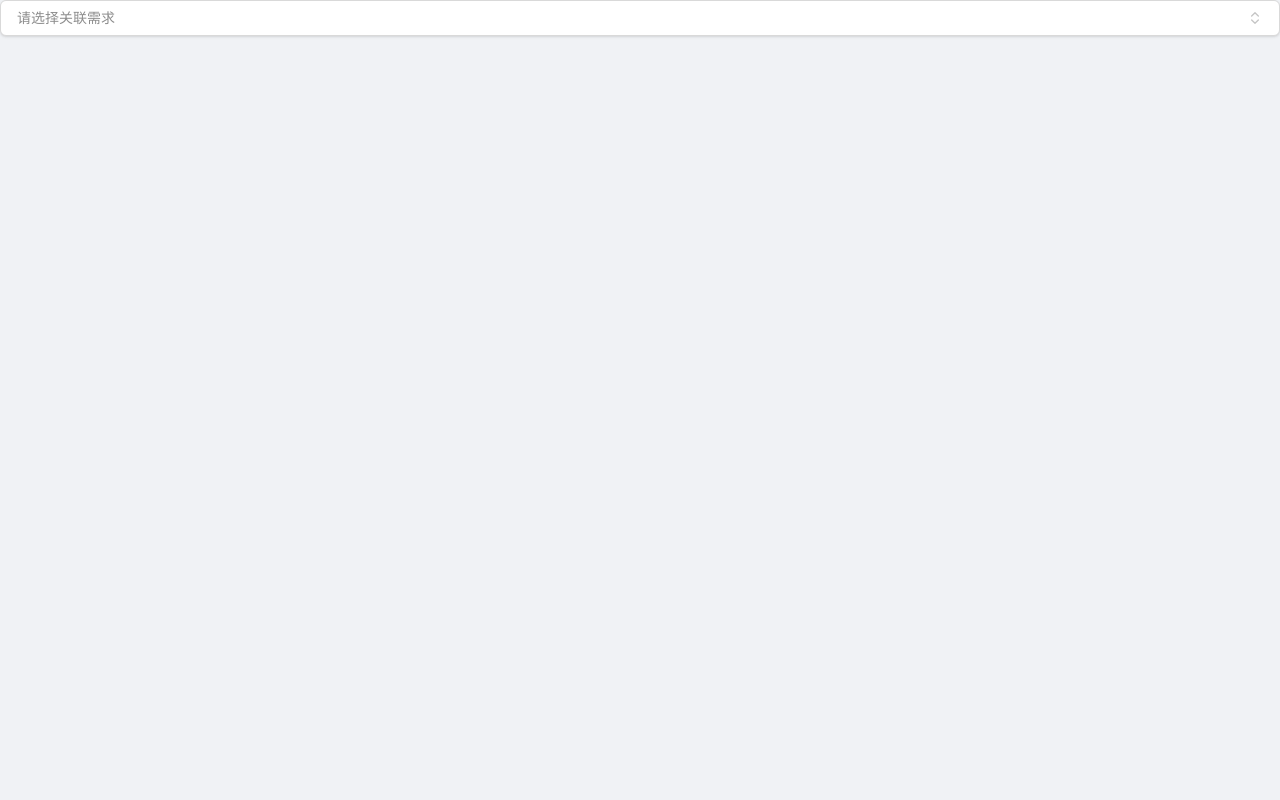
RequirementSelect › 回车搜索写入历史并展示
Click the dropdown at (66, 18), box [0,0,1279,36]
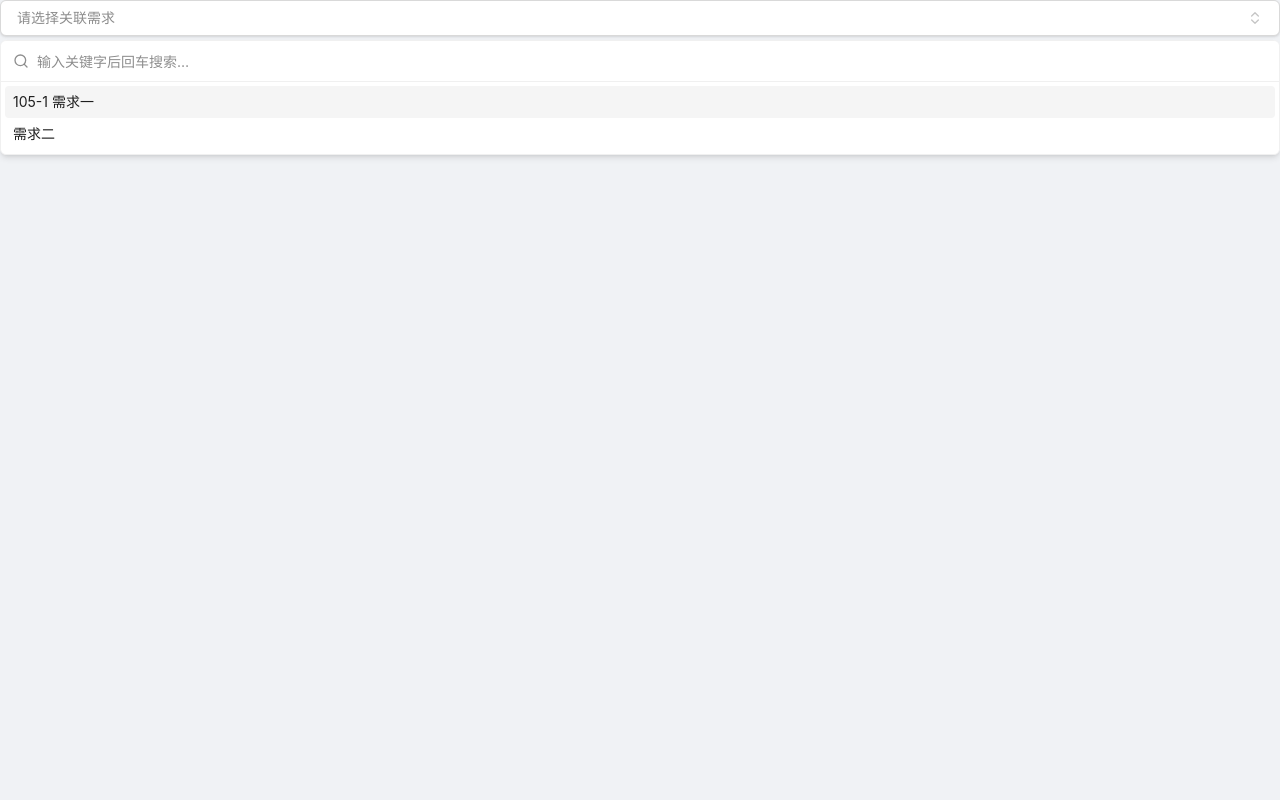
Type "交付管理" into the dropdown with placeholder "输入关键字后回车搜索…" at (652, 61), box [37,41,1267,81]
Then press Enter
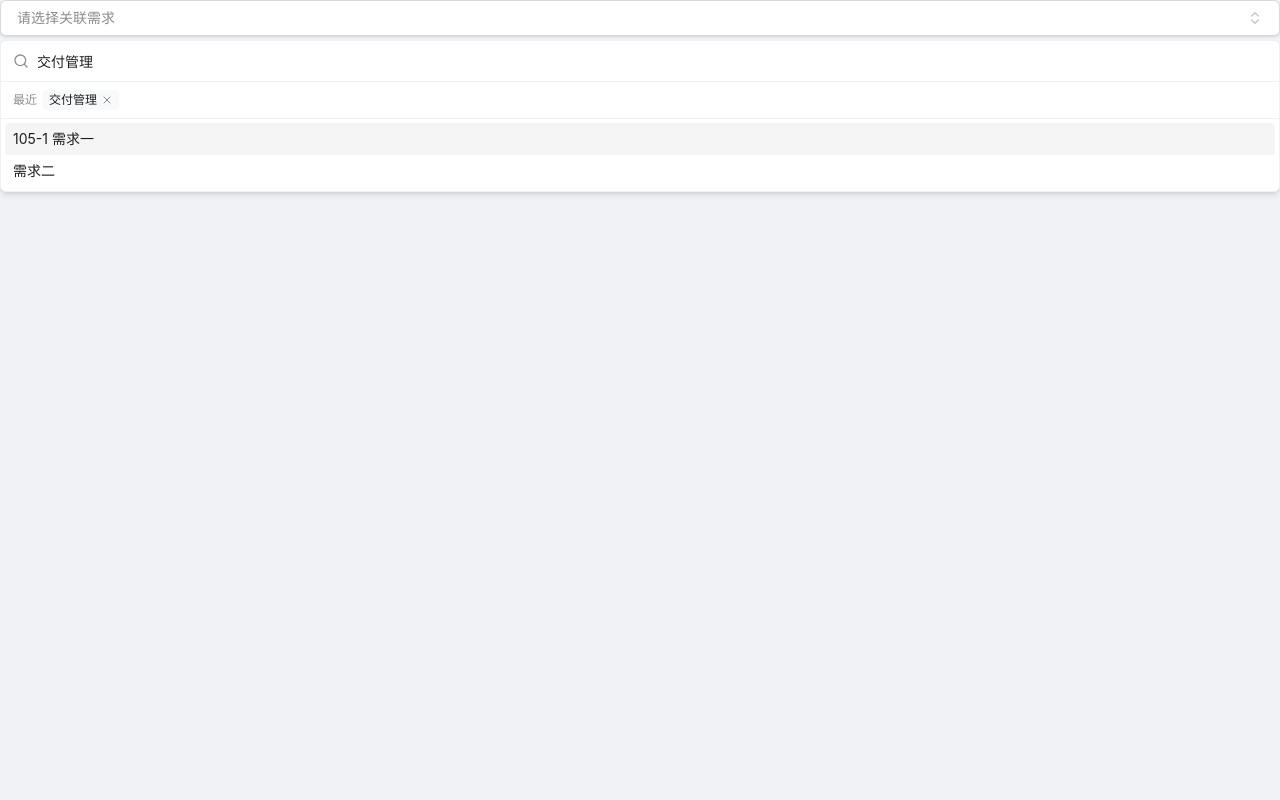
Check: the text "最近" is shown, box [13,92,37,108]
